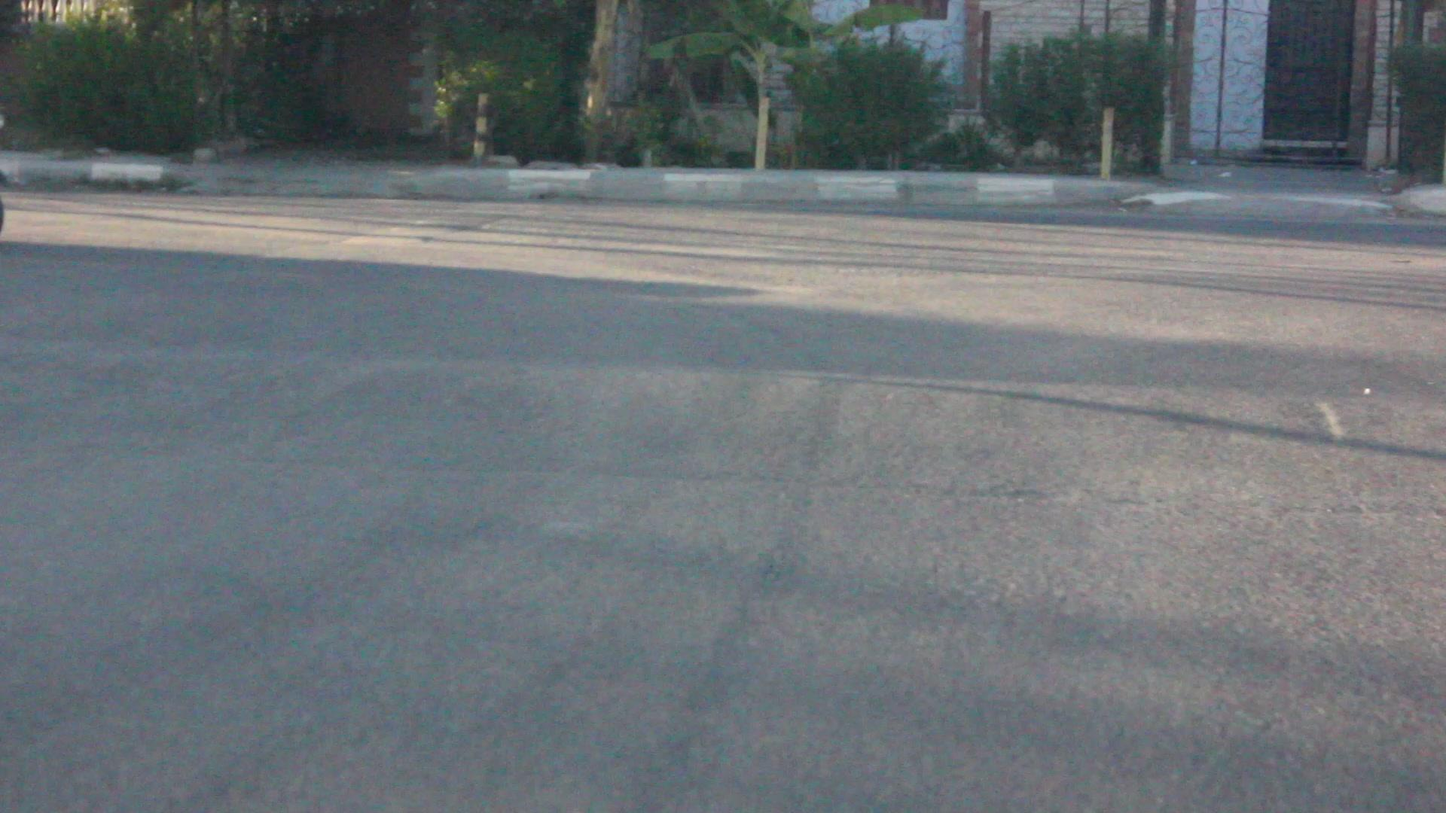Bump: (2, 343, 1446, 519)
